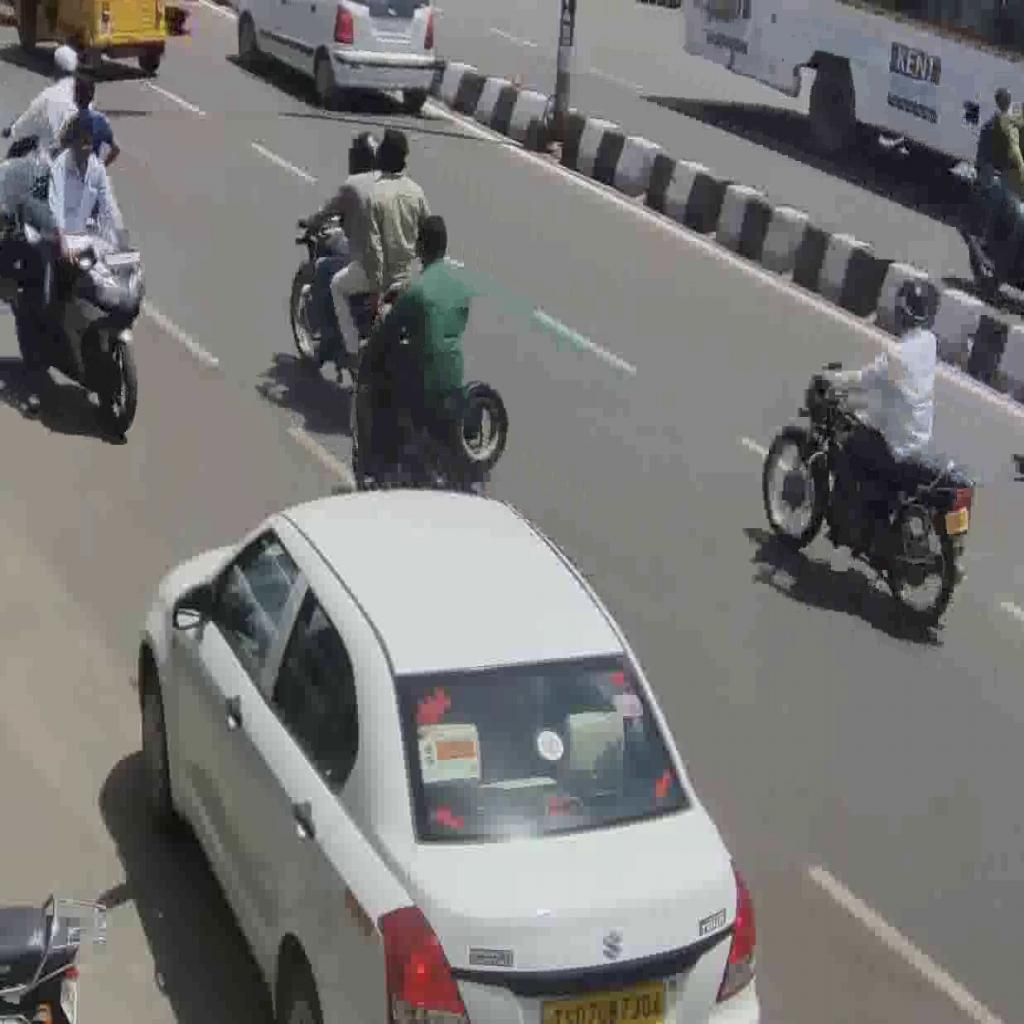helmet: (761, 359, 971, 629), (347, 309, 512, 519), (8, 196, 149, 439), (289, 208, 412, 384)
